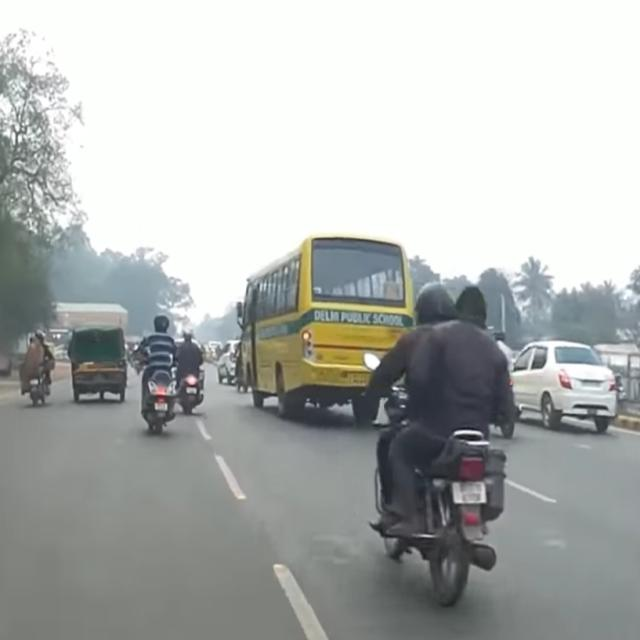Numberplate: (448, 476, 488, 508), (154, 398, 170, 412)
bike: (350, 340, 538, 626), (133, 342, 183, 439)
helmet: (411, 276, 455, 324), (150, 309, 176, 336)
no_helmet: (456, 279, 492, 328)
